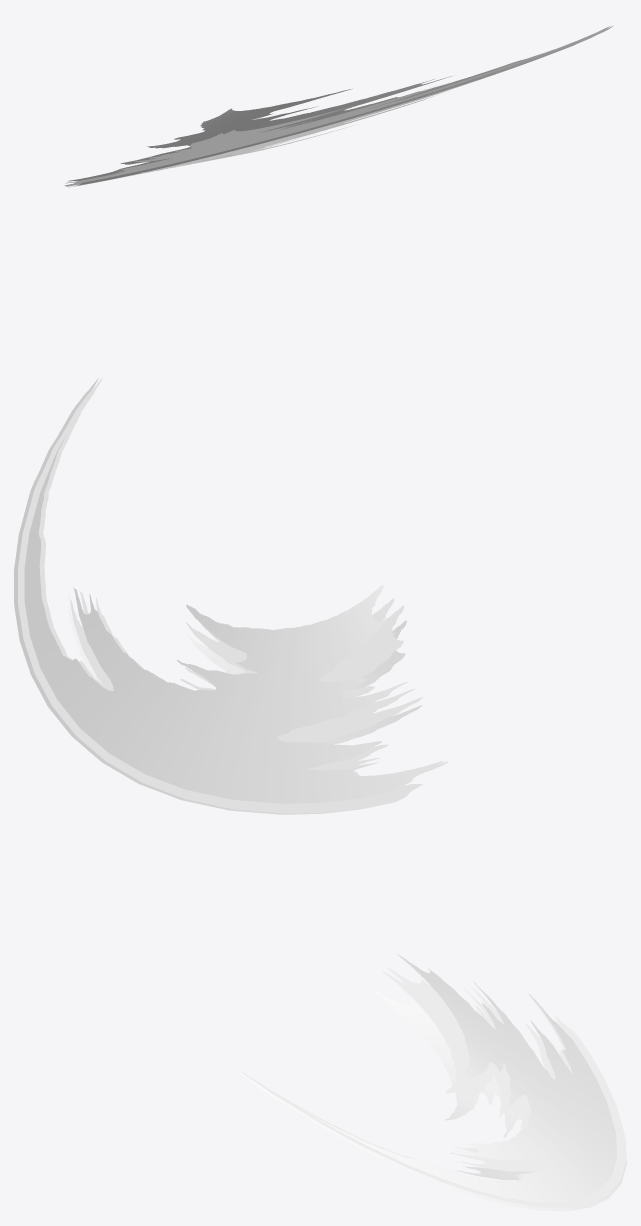
Rendered from fx_cookie0511_skill03_front.fbx.
The picture shows the model from 3 angles, top to bottom: view 1: azimuth 30°, elevation 25°; view 2: azimuth 150°, elevation 25°; view 3: azimuth 270°, elevation 25°; orthographic projection. The views are drawn at different scales.
Visible parts, largest first — view 1: L_scratch2_alpha, L_scratch1_add; view 2: L_scratch2_alpha, L_scratch1_add; view 3: L_scratch2_alpha, L_scratch1_add.
Boxes of the visible parts, bbox=[...] form: L_scratch2_alpha: bbox=[67, 25, 613, 187]; L_scratch1_add: bbox=[64, 26, 610, 186]; L_scratch2_alpha: bbox=[14, 378, 443, 814]; L_scratch1_add: bbox=[18, 377, 448, 813]; L_scratch2_alpha: bbox=[238, 954, 626, 1211]; L_scratch1_add: bbox=[237, 967, 626, 1207].
Size of the model in its own units: 707 by 377 by 581.
